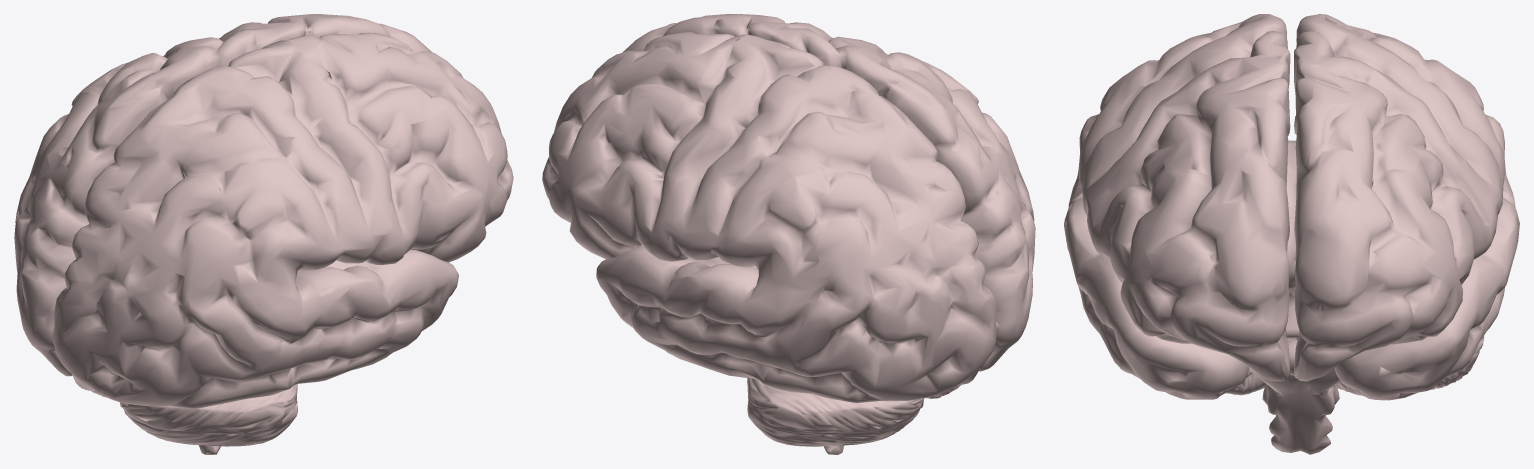
The model's file is brain-simple-mesh.glb.
3 views of the same model, side by side, from view 1: azimuth 30°, elevation 25°; view 2: azimuth 150°, elevation 25°; view 3: azimuth 270°, elevation 25° (orthographic). The views are drawn at different scales.
Parts seen in each view (by area): view 1: default; view 2: default; view 3: default.
Part boxes in pixels (x1,y1,x2,y2): default: (14, 14, 513, 454); default: (542, 14, 1035, 454); default: (1064, 14, 1519, 454).
Bounding box in the file's own units: 6.4 × 5.61 × 5.29.
